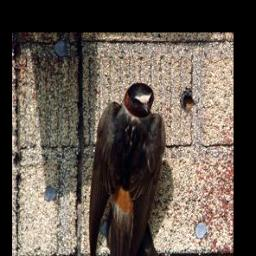Swallow: (86, 81, 165, 256)
